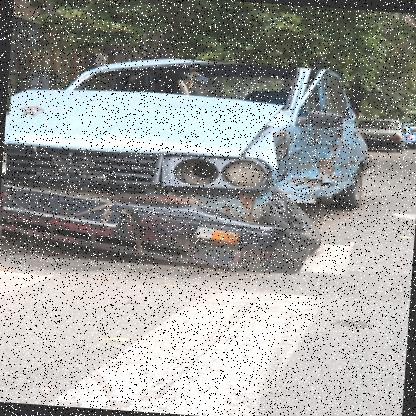Car: (0, 48, 363, 279), (354, 116, 410, 151), (397, 121, 415, 150), (403, 122, 415, 144)
